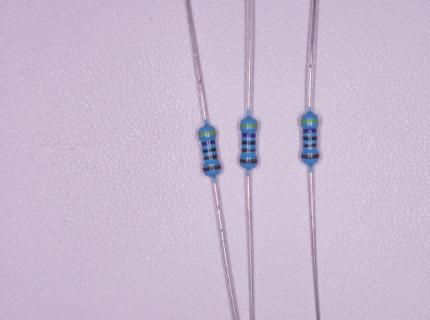Black band: (202, 148, 217, 153), (242, 141, 256, 145), (303, 136, 317, 140)
Brown band: (202, 163, 221, 172), (239, 159, 257, 164), (301, 154, 319, 159), (203, 155, 218, 160), (242, 148, 256, 152), (303, 144, 317, 148)
Violet band: (201, 140, 216, 146), (242, 133, 256, 137), (303, 129, 317, 133)
Yellow band: (198, 130, 217, 136), (301, 119, 319, 123), (240, 124, 258, 127)
